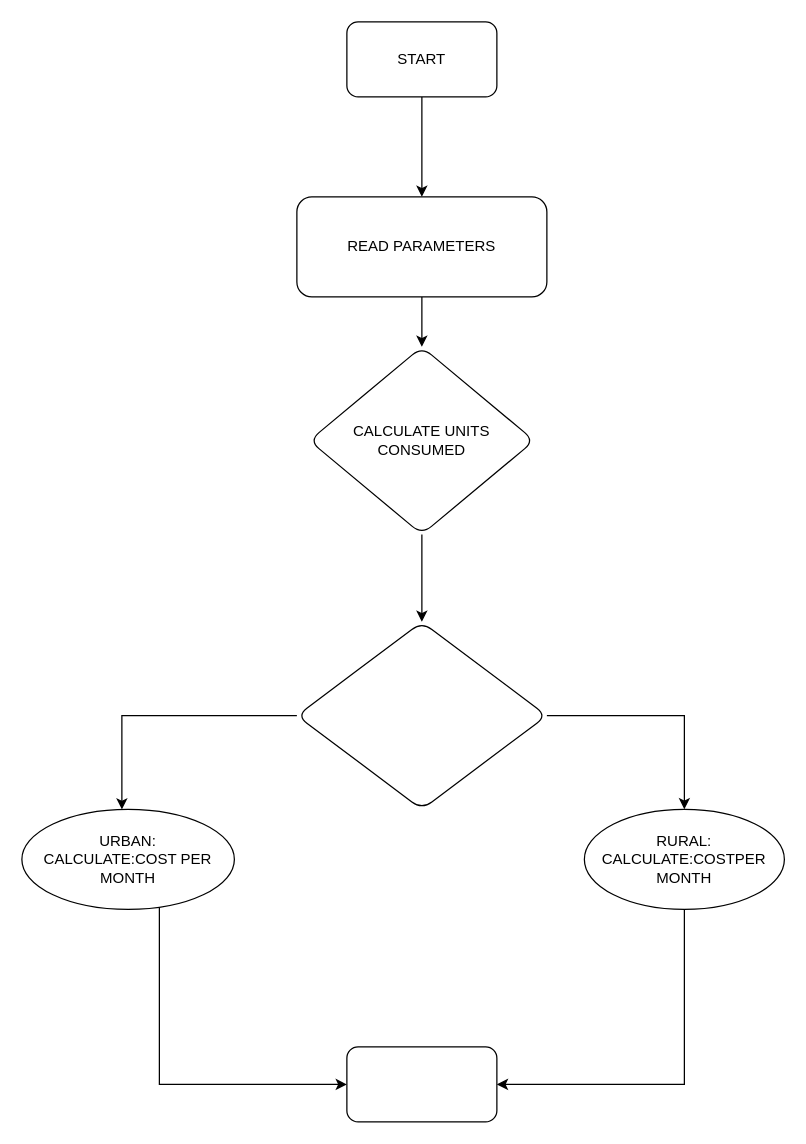
Some shapes in this 806 by 1144 pixel diagram are drawn without their labels. The centre of each missing label's shape, as x and y in pixels:
"SELECT AREA(RURAL OR URBAN)" goes at point (421, 715).
"TOTAL COST" goes at point (421, 1084).
